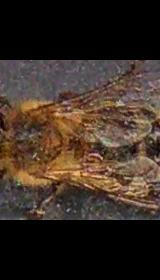varroa_mite: (80, 150, 106, 180)
